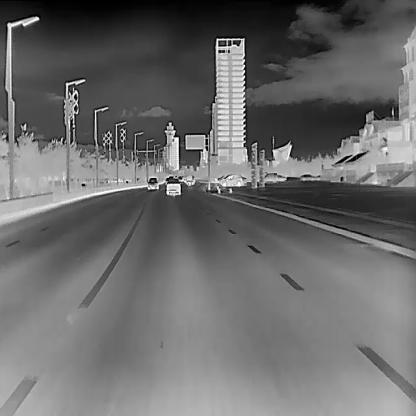car: (219, 173, 243, 186), (165, 178, 182, 195), (146, 177, 159, 190), (300, 173, 315, 180)
